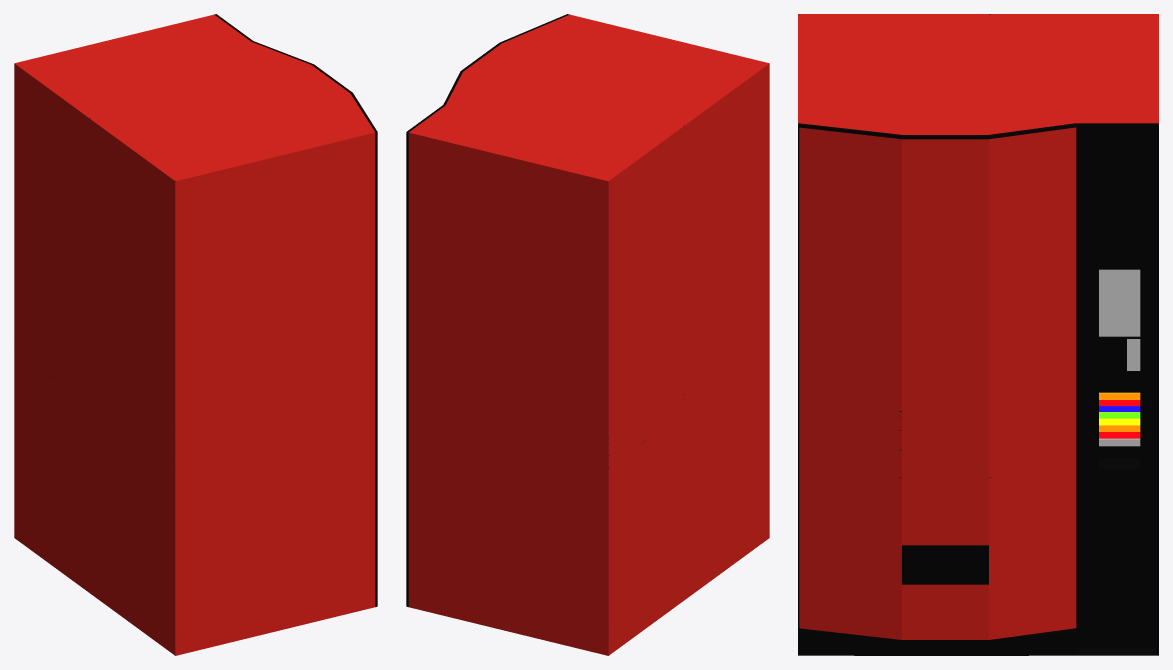
The model's file is Red_Vending_Machine.fbx.
The picture shows the model from 3 angles, left to right: view 1: azimuth 30°, elevation 25°; view 2: azimuth 150°, elevation 25°; view 3: azimuth 270°, elevation 25°; orthographic projection. The views are drawn at different scales.
Visible parts, largest first — view 1: Cube; view 2: Cube; view 3: Cube.
Part boxes in pixels (bbox=[...]): Cube: bbox=[14, 14, 377, 655]; Cube: bbox=[406, 14, 769, 655]; Cube: bbox=[798, 14, 1158, 655].
Bounding box in the file's own units: 472 × 957 × 589.
